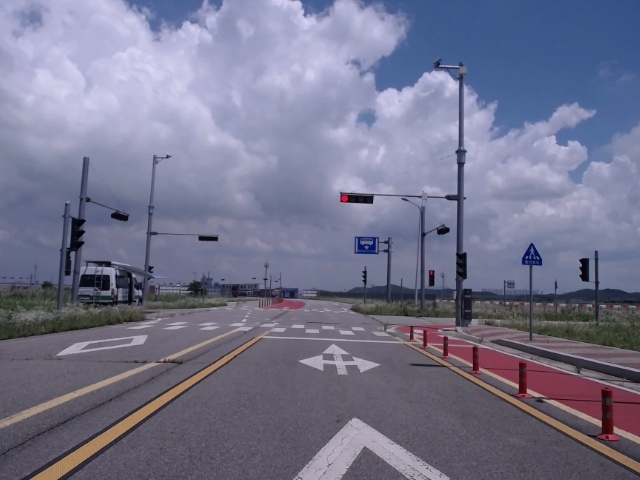red_4: (340, 194, 373, 204)
